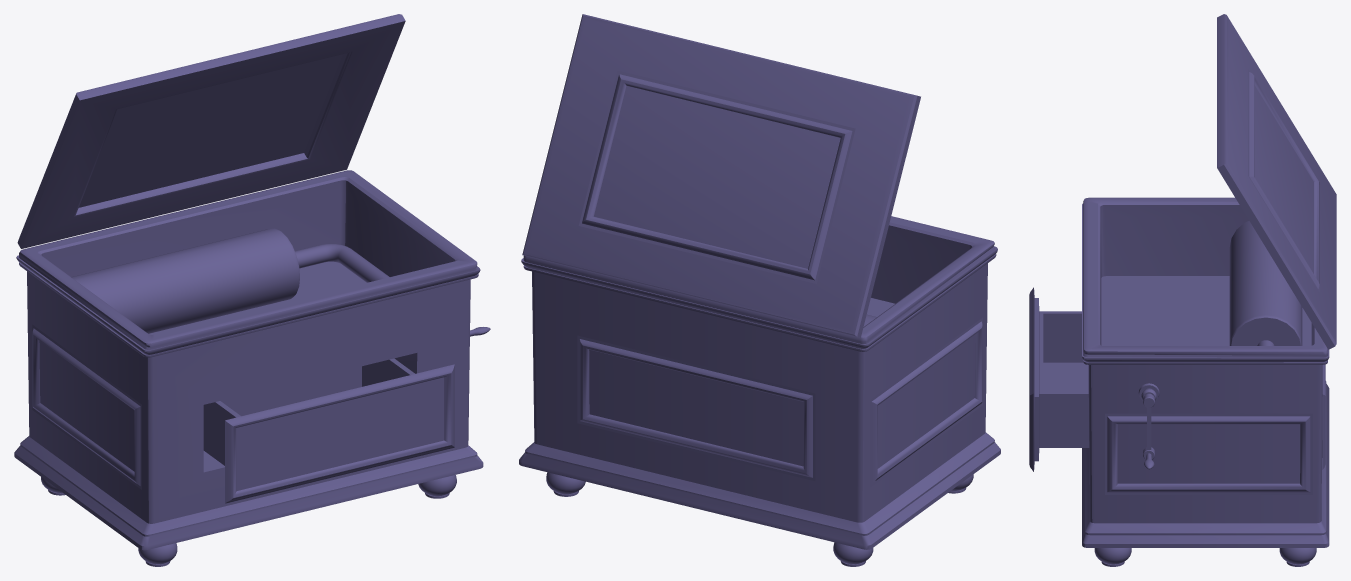
Rendered from musicBox.fbx.
The picture shows the model from 3 angles, left to right: view 1: azimuth 30°, elevation 25°; view 2: azimuth 150°, elevation 25°; view 3: azimuth 270°, elevation 25°; orthographic projection. The views are drawn at different scales.
Visible parts, largest first — view 1: Cube.001, top, Cube.014; view 2: Cube.001, top, Cube.015; view 3: Cube.001, top, Cube.014, Cube.015, Cube.007.
Part boxes in pixels (box(x1,y1,x2,y2)): Cube.001: box(14, 170, 483, 566); top: box(17, 14, 405, 248); Cube.014: box(203, 358, 454, 503); Cube.001: box(519, 216, 1000, 566); top: box(522, 14, 920, 337); Cube.015: box(578, 70, 855, 283); Cube.001: box(1082, 197, 1329, 566); top: box(1217, 14, 1336, 349); Cube.014: box(1029, 287, 1089, 471); Cube.015: box(1248, 69, 1319, 291); Cube.007: box(1143, 393, 1154, 469).
Size of the model in its own units: 31.91 by 34.3 by 23.42.
